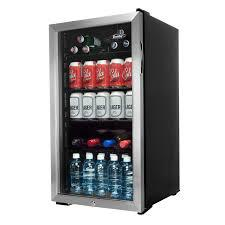beer: (70, 61, 133, 117)
